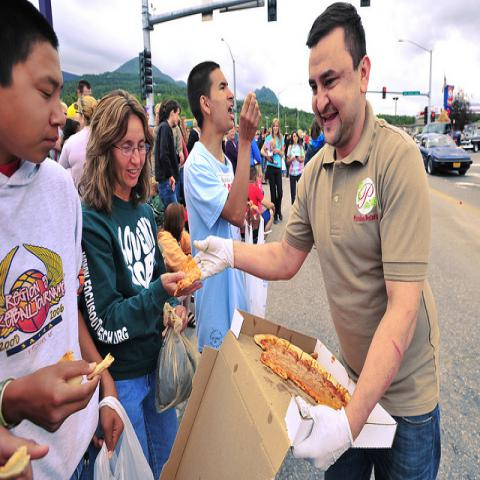car: (421, 133, 473, 174), (414, 122, 454, 151), (459, 127, 479, 154)
